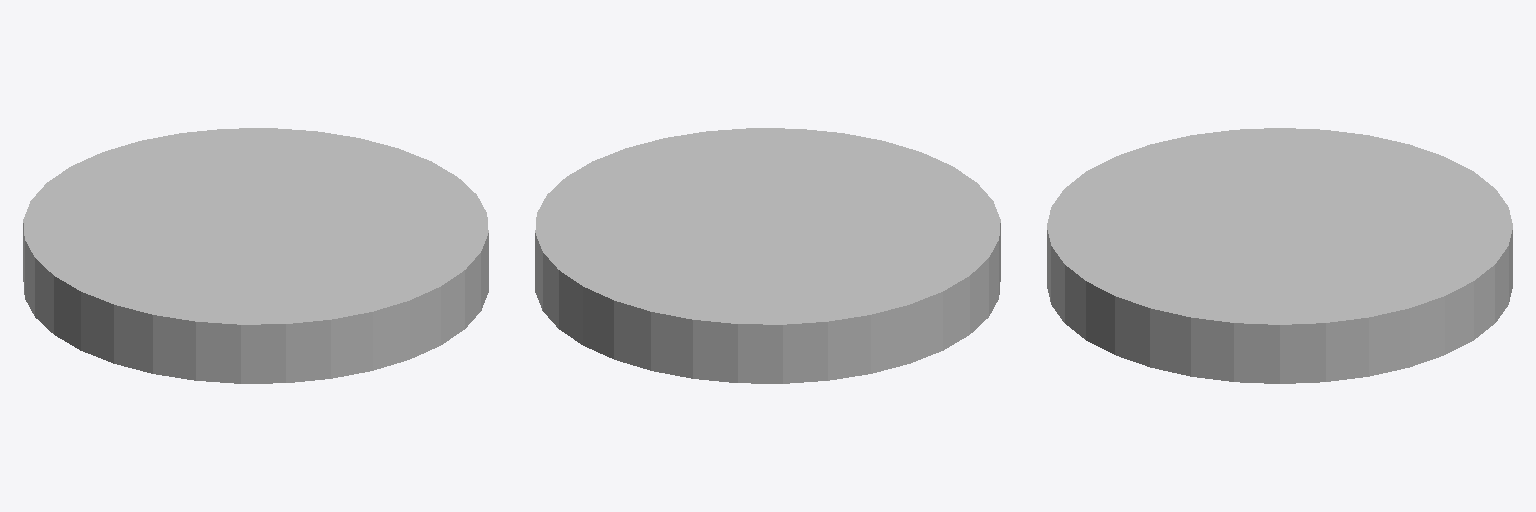
The model's file is EnergyBase.obj.
The picture shows the model from 3 angles: view 1: azimuth 30°, elevation 25°; view 2: azimuth 150°, elevation 25°; view 3: azimuth 270°, elevation 25°; orthographic projection.
Visible parts, largest first — view 1: Cylinder; view 2: Cylinder; view 3: Cylinder.
Boxes of the visible parts, x1,y1,x2,y2 form: Cylinder: [23, 128, 488, 383]; Cylinder: [535, 128, 1000, 383]; Cylinder: [1047, 128, 1512, 383].
Bounding box in the file's own units: 6.62 × 0.9267 × 6.62.